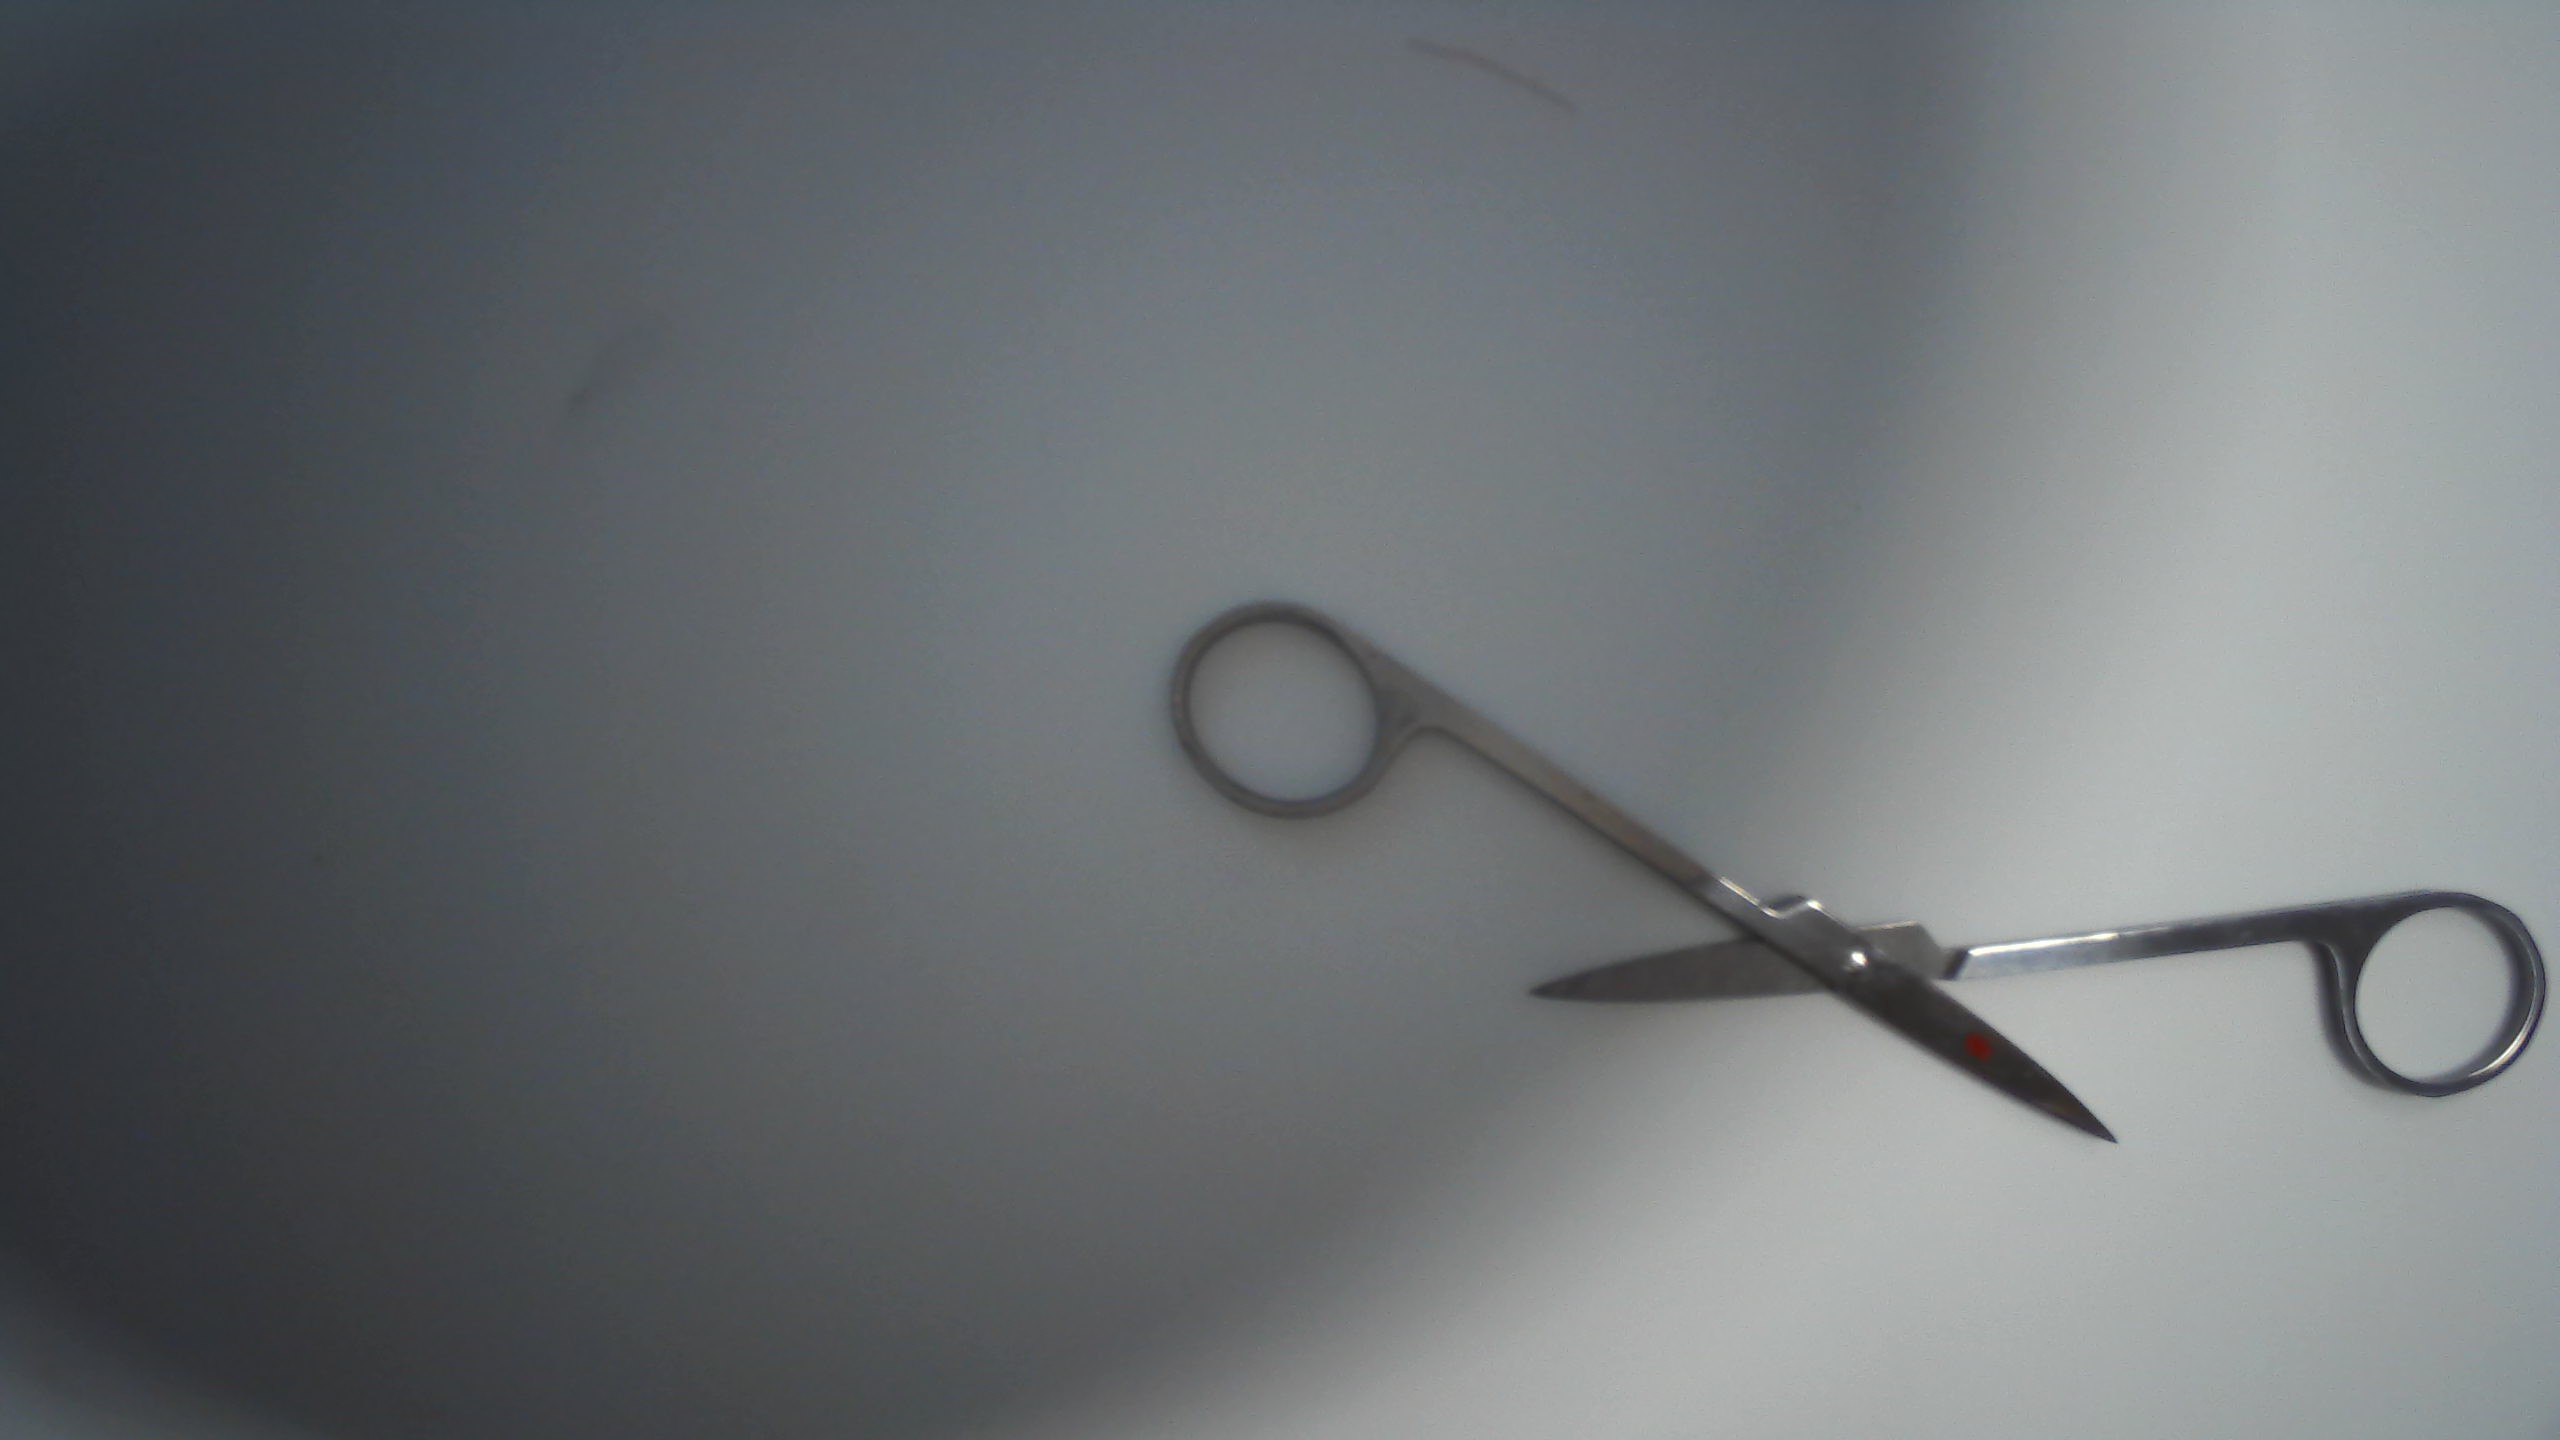Stain: (1960, 1020, 1994, 1064)
